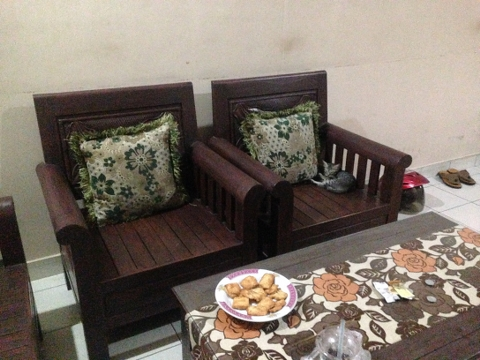kursi: (35, 82, 262, 360), (210, 70, 413, 257)
meja: (170, 211, 480, 359)
